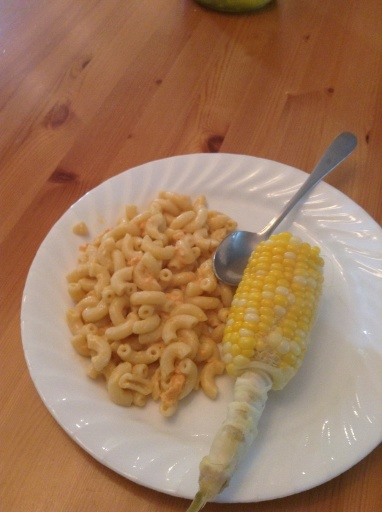background: (39, 151, 195, 409)
